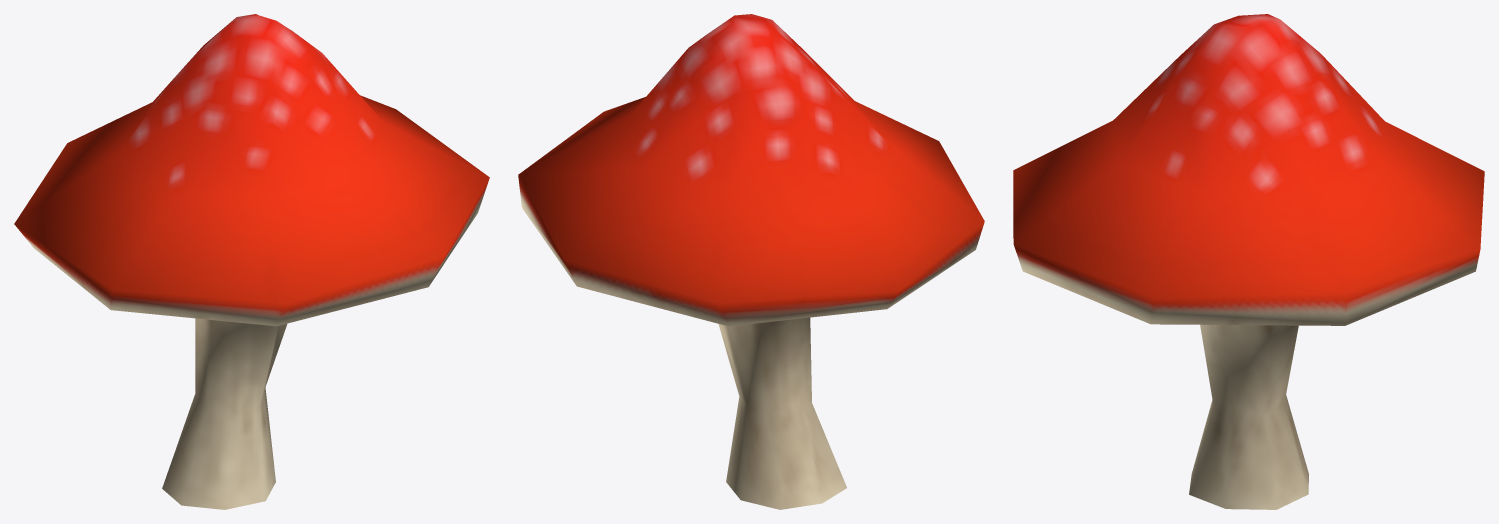
File: SM_Mushroom_03.glb
3 views of the same model, side by side, from view 1: azimuth 30°, elevation 25°; view 2: azimuth 150°, elevation 25°; view 3: azimuth 270°, elevation 25° (orthographic). The views are drawn at different scales.
Parts seen in each view (by area): view 1: SM_Mushroom_03; view 2: SM_Mushroom_03; view 3: SM_Mushroom_03.
Boxes of the visible parts, x1,y1,x2,y2 form: SM_Mushroom_03: (14, 14, 489, 509); SM_Mushroom_03: (518, 14, 984, 509); SM_Mushroom_03: (1013, 14, 1484, 509).
Size of the model in its own units: 0.2342 by 0.2643 by 0.2314.
Materials: 1 (1 with a texture image).
